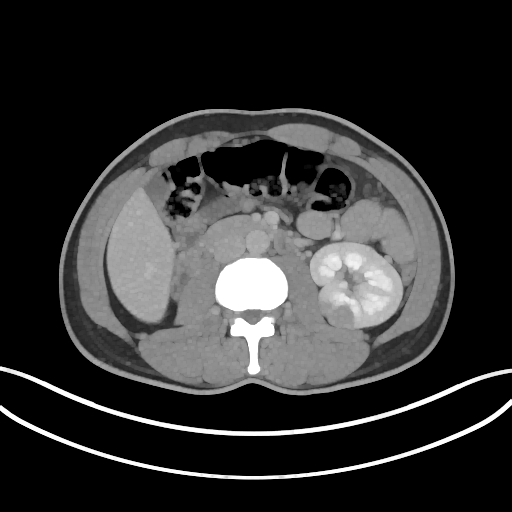Lesion: (322, 301, 359, 330)
